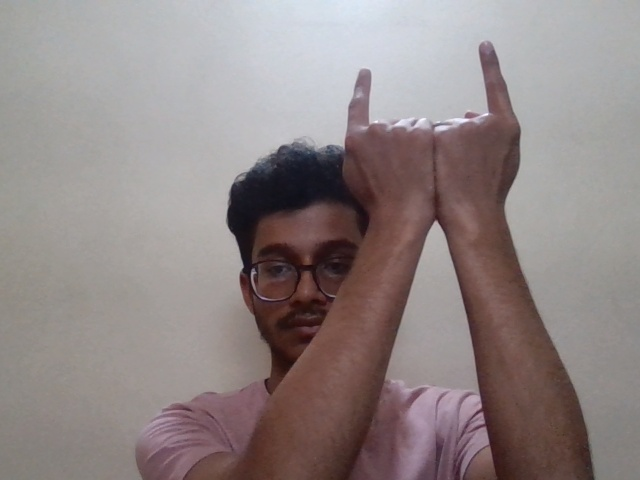when: (329, 36, 554, 254)
